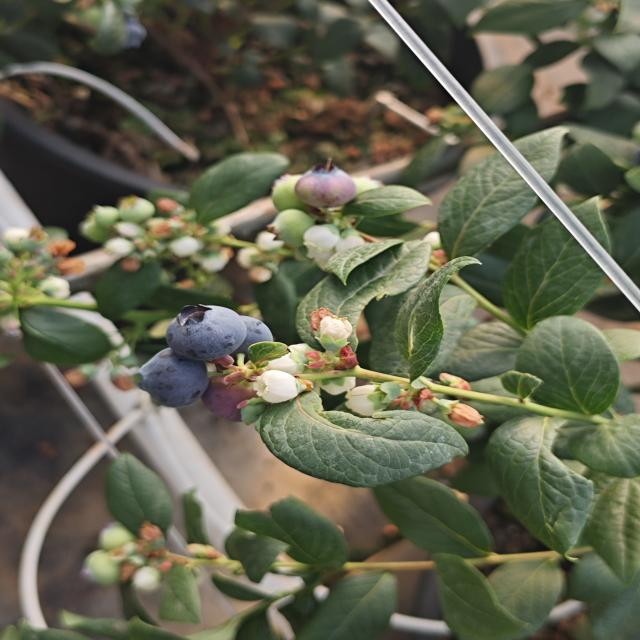ripe: (128, 344, 217, 410), (162, 298, 251, 359), (221, 310, 289, 366)
